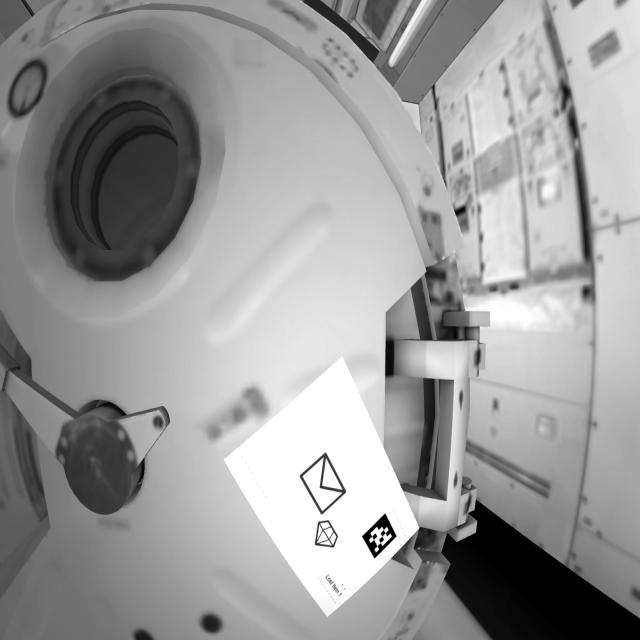diamond: (313, 518, 343, 556)
letter: (299, 450, 352, 519)
